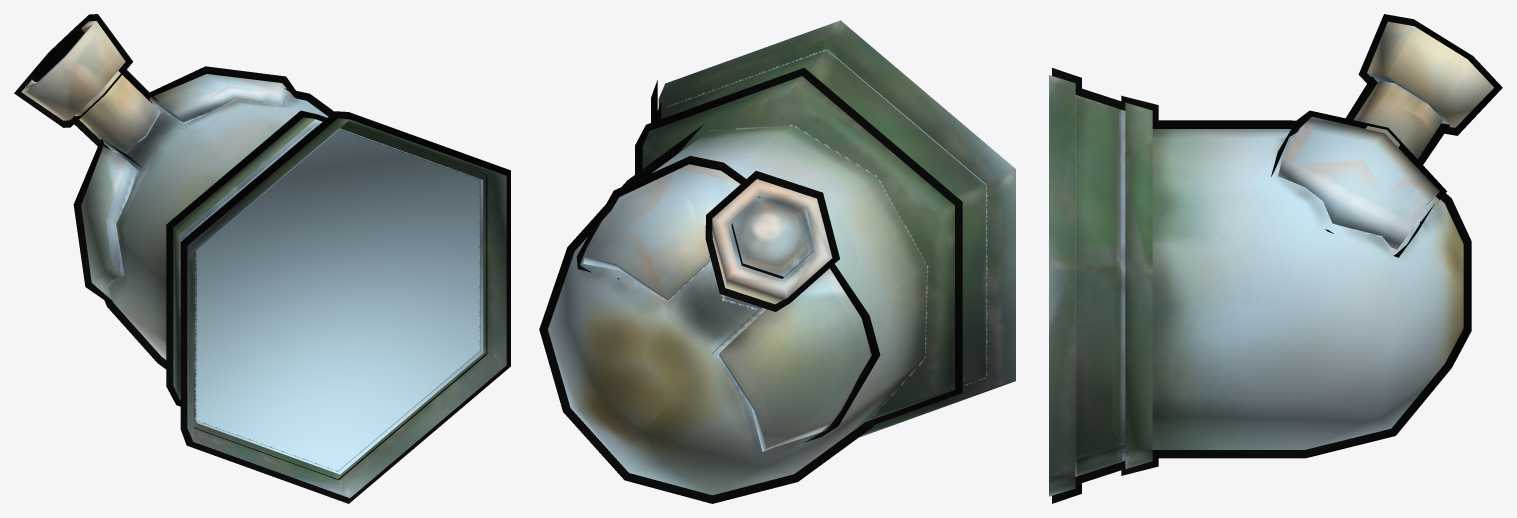
Rendered from upgradeCenter.fbx.
3 renders of one model, left to right at view 1: azimuth 30°, elevation 25°; view 2: azimuth 150°, elevation 25°; view 3: azimuth 270°, elevation 25°, orthographic. The views are drawn at different scales.
Parts seen in each view (by area): view 1: Building.002; view 2: Building.002; view 3: Building.002.
Boxes of the visible parts, left/top/right/bottom form: Building.002: left=14, top=14, right=510, bottom=503; Building.002: left=539, top=20, right=1015, bottom=503; Building.002: left=1049, top=14, right=1502, bottom=503.
Bounding box in the file's own units: 78.36 × 90.26 × 84.97.
